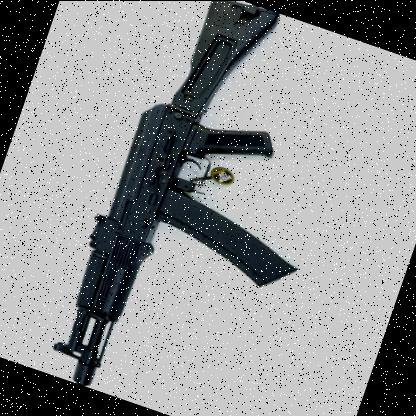rifle: (18, 0, 371, 416)
